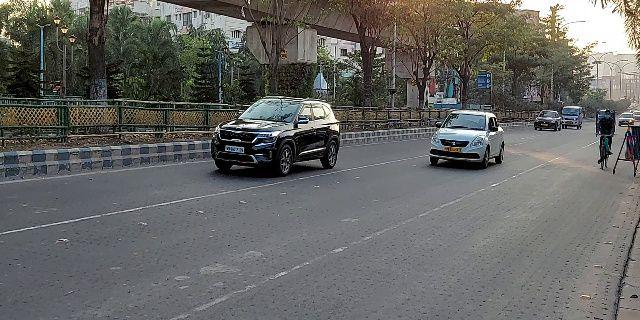Car: (209, 93, 341, 177), (429, 109, 507, 172), (530, 106, 564, 135)
Cycle: (593, 102, 616, 176)
